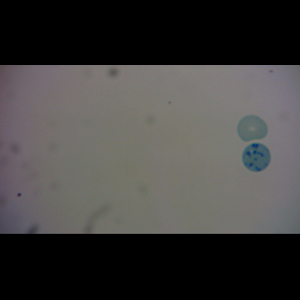aggregate reticulocyte: (241, 141, 273, 173)
erythrocyte: (236, 114, 269, 143)
